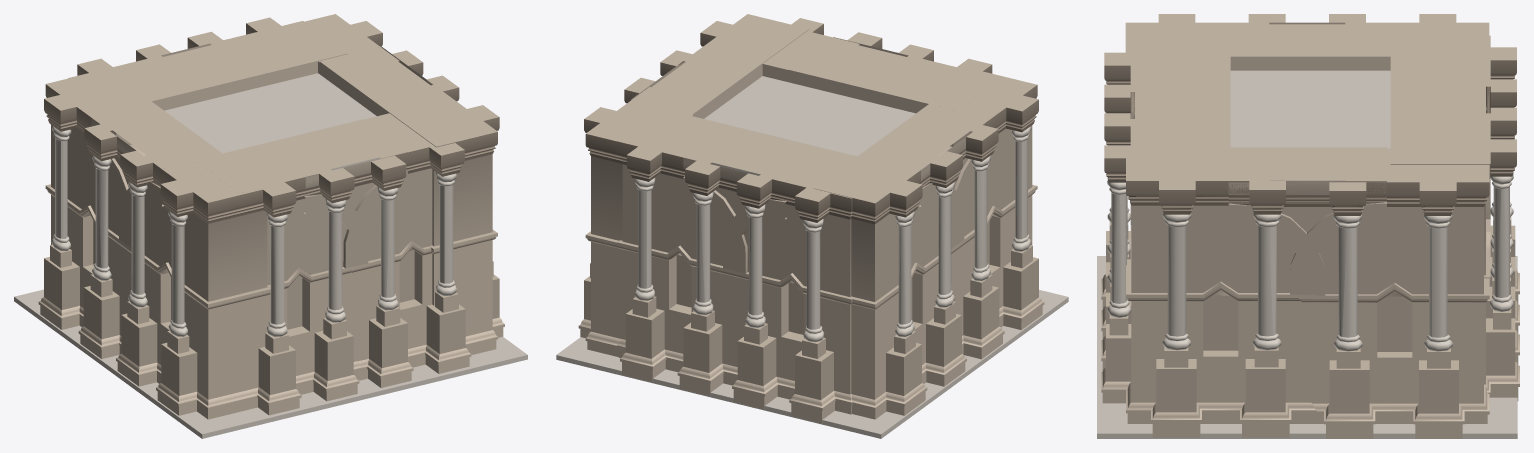
The model's file is walllllllle.fbx.
3 views of the same model, side by side, from view 1: azimuth 30°, elevation 25°; view 2: azimuth 150°, elevation 25°; view 3: azimuth 270°, elevation 25° (orthographic). The views are drawn at different scales.
Parts seen in each view (by area): view 1: Cube.002; view 2: Cube.002; view 3: Cube.002.
Boxes of the visible parts, left/top/right/bottom form: Cube.002: left=14, top=14, right=527, bottom=438; Cube.002: left=556, top=14, right=1068, bottom=438; Cube.002: left=1097, top=14, right=1519, bottom=438.
Bounding box in the file's own units: 374 × 244 × 375.
